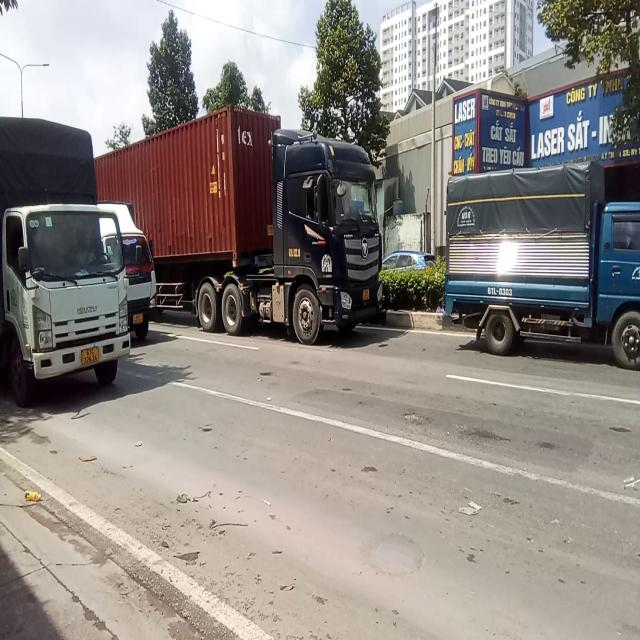bien_vang: (79, 344, 100, 368), (131, 309, 145, 326)
